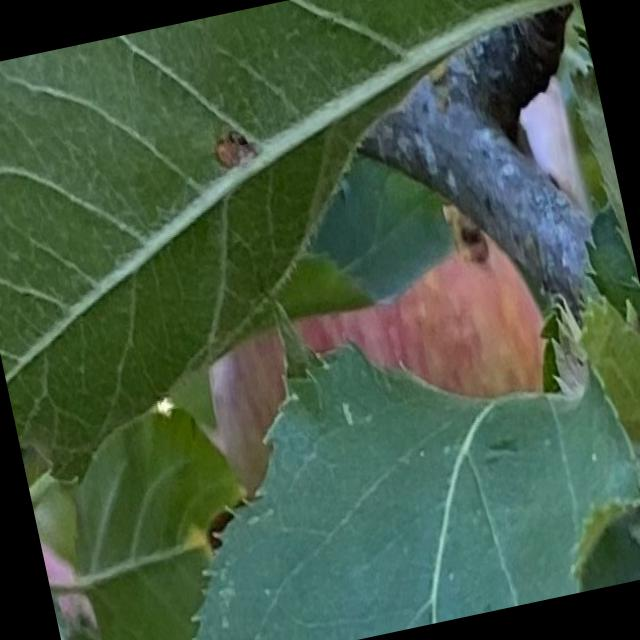Apples: (177, 187, 564, 502)
